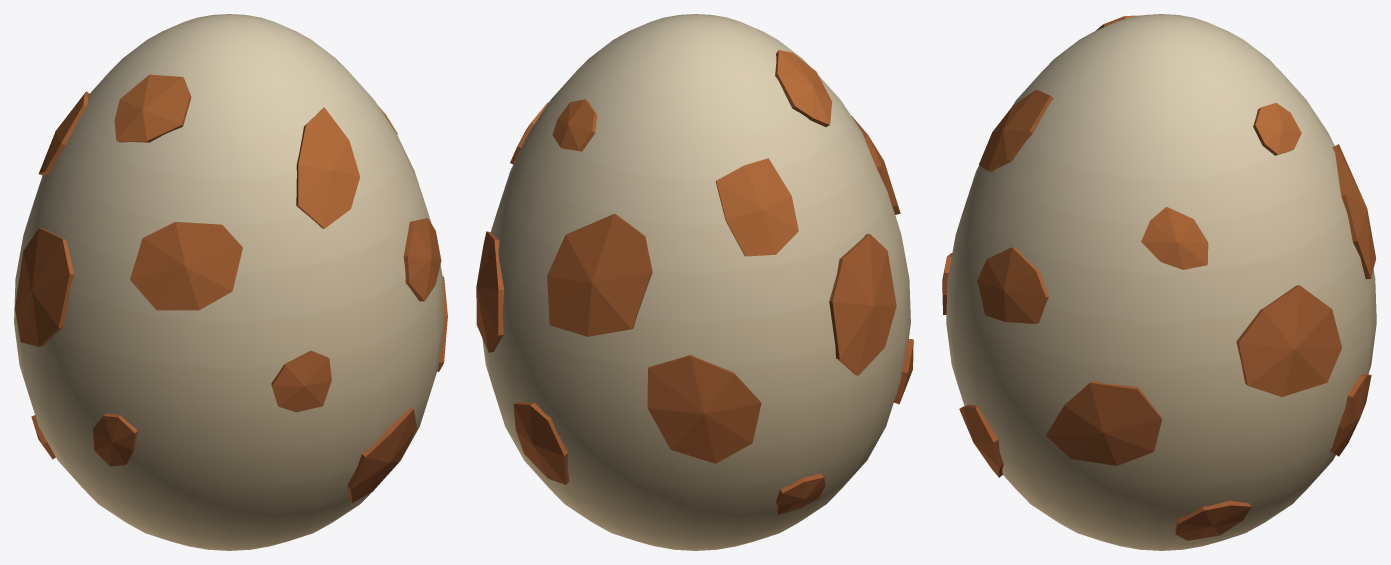
The model's file is mystery_egg_speckled.fbx.
The picture shows the model from 3 angles, left to right: view 1: azimuth 30°, elevation 25°; view 2: azimuth 150°, elevation 25°; view 3: azimuth 270°, elevation 25°; orthographic projection.
Visible parts, largest first — view 1: mystery_egg_speckled; view 2: mystery_egg_speckled; view 3: mystery_egg_speckled.
Part boxes in pixels (x1,y1,x2,y2): mystery_egg_speckled: (14, 14, 447, 550); mystery_egg_speckled: (476, 14, 913, 550); mystery_egg_speckled: (942, 14, 1376, 550).
Size of the model in its own units: 1.73 by 2.2 by 1.71.
